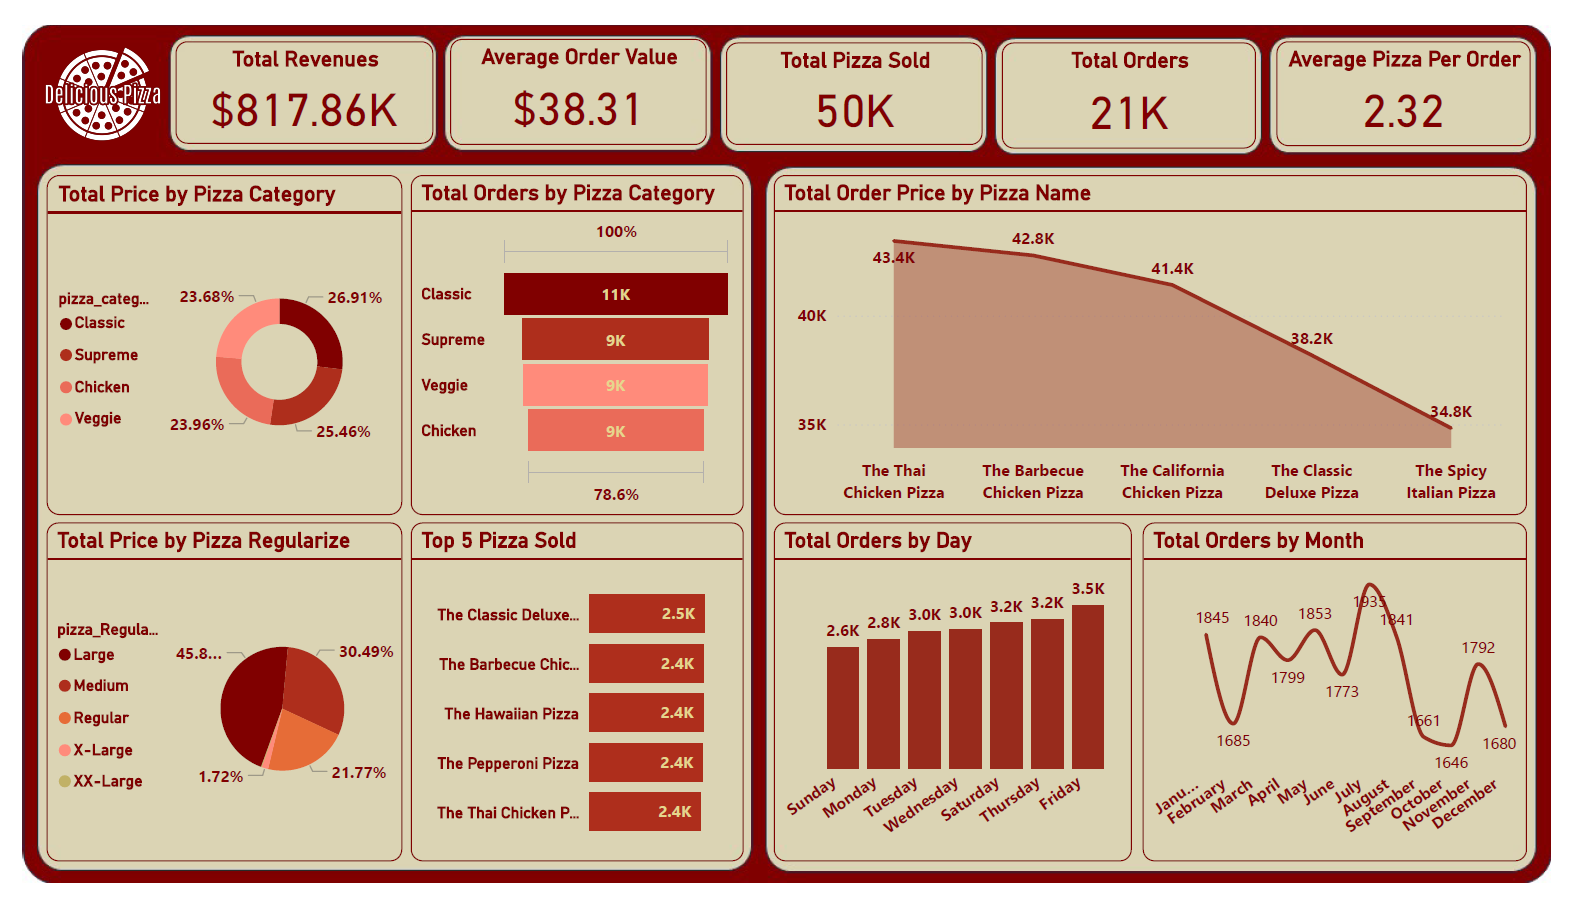

The page's visual inventory and layout, read from the dashboard file:
{"tool":"powerbi","page":{"name":"Pizza Sales","canvas":[1280,720],"ordinal":0},"visuals":[{"type":"card","title":"Total Revenues","fields":{"Values":["pizza_sales.Total_Revenue"]},"box":[127.5,12.5,216.2,86.2],"z":0},{"type":"card","title":"Average Order Value","fields":{"Values":["pizza_sales.Avg_order_Value"]},"box":[357.5,11.2,215,88.8],"z":1000},{"type":"card","title":"Total Pizza Sold","fields":{"Values":["pizza_sales.Total_pizza_sold"]},"box":[588.8,13.8,215,86.2],"z":2000},{"type":"card","title":"Total Orders","fields":{"Values":["pizza_sales.Total_Orders"]},"box":[820,13.8,212.5,88.8],"z":3000},{"type":"card","title":"Average Pizza Per Order","fields":{"Values":["pizza_sales.Avg_Pizzas_per_order"]},"box":[1050,12.5,212.5,88.8],"z":4000},{"type":"columnChart","title":"Total Orders by Day","fields":{"Category":["pizza_sales.order_day"],"Y":["pizza_sales.Total_Orders"]},"box":[628.8,416.2,300,283.8],"z":5000},{"type":"lineChart","title":"Total Orders by Month","fields":{"Y":["pizza_sales.Total_Orders"],"Category":["pizza_sales.order_date.Variation.Date Hierarchy.Month"]},"box":[937.5,416.2,322.5,283.8],"z":6000},{"type":"donutChart","title":"Total Price by Pizza Category","fields":{"Category":["pizza_sales.pizza_category"],"Y":["Sum(pizza_sales.total_price)"]},"box":[20,125,297.5,285],"z":7000},{"type":"pieChart","title":"Total Price by Pizza Regularize","fields":{"Y":["Sum(pizza_sales.total_price)"],"Category":["pizza_sales.pizza_Regularize"]},"box":[20,416.2,297.5,283.8],"z":8000},{"type":"funnel","title":"Total Orders by Pizza Category","fields":{"Y":["pizza_sales.Total_Orders"],"Category":["pizza_sales.pizza_category"]},"box":[325,125,278.8,285],"z":8001},{"type":"clusteredBarChart","title":"Top 5 Pizza Sold","fields":{"Y":["pizza_sales.Total_pizza_sold"],"Category":["pizza_sales.pizza_name"]},"box":[325,416.2,278.8,283.8],"z":8002},{"type":"areaChart","title":"Total Order Price by Pizza Name","fields":{"Category":["pizza_sales.pizza_name"],"Y":["Sum(pizza_sales.total_price)"]},"box":[628.8,125,631.2,285],"z":8003},{"type":"image","box":[0,11.2,135,91.2],"z":8004}]}

Visuals, with their boxes in screenshot pixels (x1, y1, x2, y2), scaled from the page's 1280x720 canvas onto the 1571x907 screenshot:
"Total Revenues" card: {"x1": 156, "y1": 16, "x2": 422, "y2": 124}
"Average Order Value" card: {"x1": 439, "y1": 14, "x2": 703, "y2": 126}
"Total Pizza Sold" card: {"x1": 723, "y1": 17, "x2": 987, "y2": 126}
"Total Orders" card: {"x1": 1006, "y1": 17, "x2": 1267, "y2": 129}
"Average Pizza Per Order" card: {"x1": 1289, "y1": 16, "x2": 1550, "y2": 128}
"Total Orders by Day" columnChart: {"x1": 772, "y1": 524, "x2": 1140, "y2": 882}
"Total Orders by Month" lineChart: {"x1": 1151, "y1": 524, "x2": 1546, "y2": 882}
"Total Price by Pizza Category" donutChart: {"x1": 25, "y1": 157, "x2": 390, "y2": 516}
"Total Price by Pizza Regularize" pieChart: {"x1": 25, "y1": 524, "x2": 390, "y2": 882}
"Total Orders by Pizza Category" funnel: {"x1": 399, "y1": 157, "x2": 741, "y2": 516}
"Top 5 Pizza Sold" clusteredBarChart: {"x1": 399, "y1": 524, "x2": 741, "y2": 882}
"Total Order Price by Pizza Name" areaChart: {"x1": 772, "y1": 157, "x2": 1546, "y2": 516}
image: {"x1": 0, "y1": 14, "x2": 166, "y2": 129}
